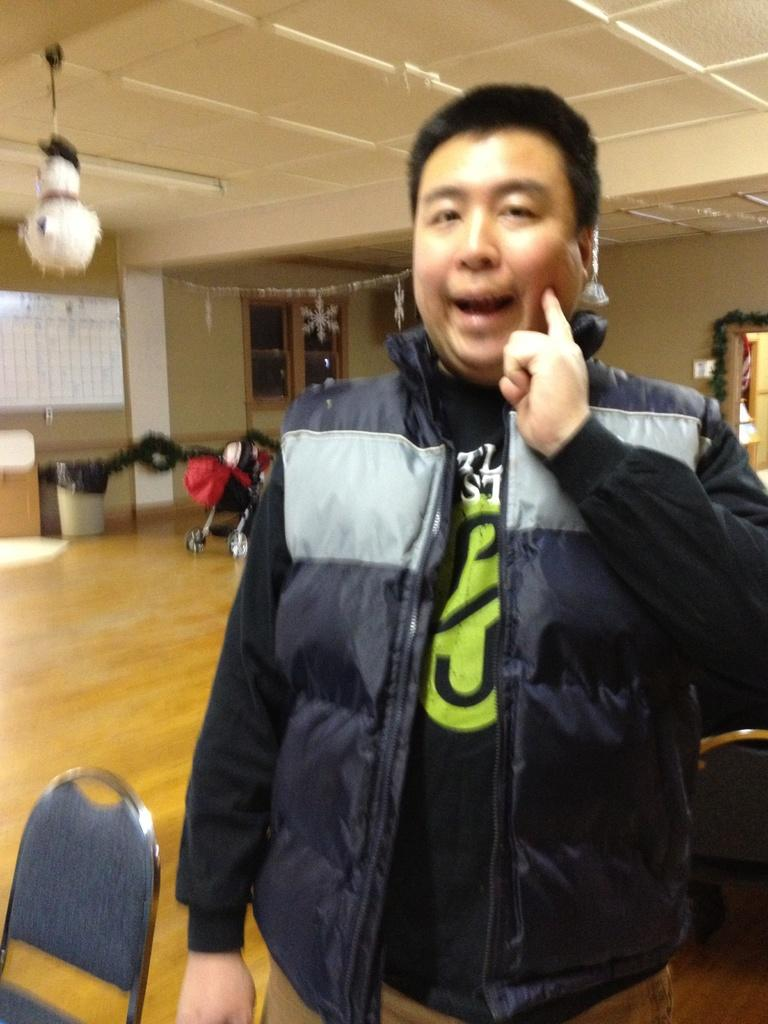Luggage-and-bags: (20, 763, 166, 1020), (178, 440, 237, 509)
